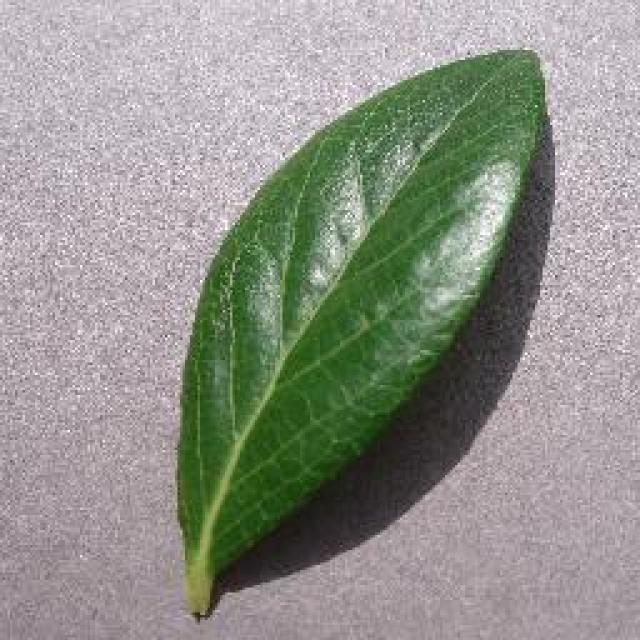Blu_healthy: (181, 132, 491, 468)
